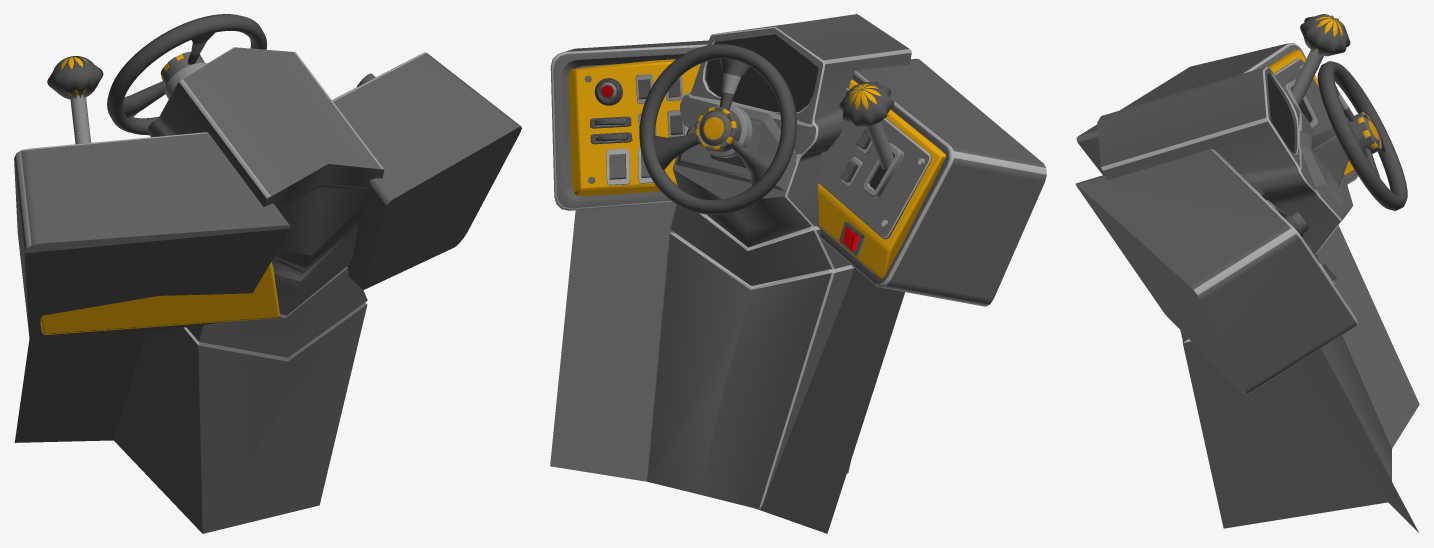
File: Tractor_Dashboard.fbx
The picture shows the model from 3 angles, left to right: view 1: azimuth 30°, elevation 25°; view 2: azimuth 150°, elevation 25°; view 3: azimuth 270°, elevation 25°; orthographic projection. The views are drawn at different scales.
Parts seen in each view (by area): view 1: Base, Base1, Rubble, group2, Transmission; view 2: Base, Base1, Rubble, pPlane1, group2, Transmission_Base, Transmission, Rubble1; view 3: Base, Rubble, Base1, group2, pPlane1, Transmission, Transmission_Base.
Part boxes in pixels (x1,y1,x2,y2): Base: (14, 47, 521, 533); Base1: (14, 132, 291, 346); Rubble: (107, 14, 267, 135); group2: (47, 56, 103, 99); Transmission: (70, 95, 91, 144); Base: (550, 14, 945, 533); Base1: (635, 58, 1046, 306); Rubble: (639, 44, 796, 214); pPlane1: (706, 34, 818, 112); group2: (839, 82, 894, 126); Transmission_Base: (863, 143, 904, 198); Transmission: (866, 122, 893, 169); Rubble1: (594, 78, 622, 105); Base: (1075, 49, 1419, 532); Rubble: (1317, 61, 1407, 210); Base1: (1076, 42, 1358, 217); group2: (1300, 14, 1350, 56); pPlane1: (1267, 75, 1294, 152); Transmission: (1291, 50, 1323, 104); Transmission_Base: (1282, 79, 1317, 128).
Bounding box in the file's own units: 366 × 326 × 236.
